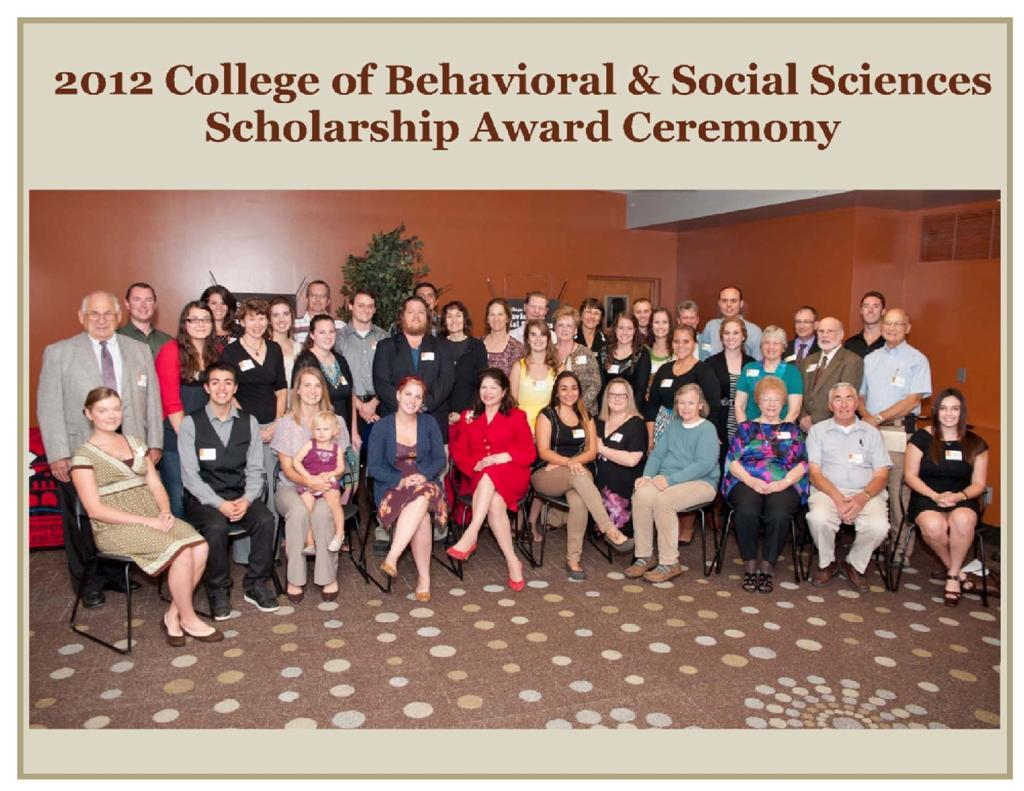face: (82, 296, 118, 337), (93, 397, 120, 431), (208, 368, 234, 403), (128, 288, 154, 319), (186, 308, 212, 339), (313, 318, 336, 350), (404, 300, 427, 332), (938, 395, 961, 427), (833, 386, 856, 418), (882, 312, 906, 341), (298, 373, 321, 403), (352, 292, 375, 321), (479, 376, 502, 405), (399, 385, 422, 414), (245, 309, 270, 335), (817, 322, 840, 350), (673, 328, 693, 358), (270, 304, 291, 331), (558, 379, 579, 406), (759, 391, 782, 415), (207, 292, 227, 319), (307, 284, 327, 311), (862, 296, 882, 322), (719, 291, 739, 317), (721, 323, 741, 349), (608, 384, 628, 410), (529, 324, 548, 350), (795, 312, 815, 336), (678, 395, 698, 419), (556, 314, 574, 340), (416, 287, 435, 311), (445, 307, 464, 331), (634, 301, 652, 326), (488, 306, 506, 330), (580, 307, 600, 328), (526, 297, 545, 319), (313, 419, 332, 441), (653, 311, 669, 337), (762, 337, 781, 358), (678, 308, 696, 330), (617, 320, 633, 343)
